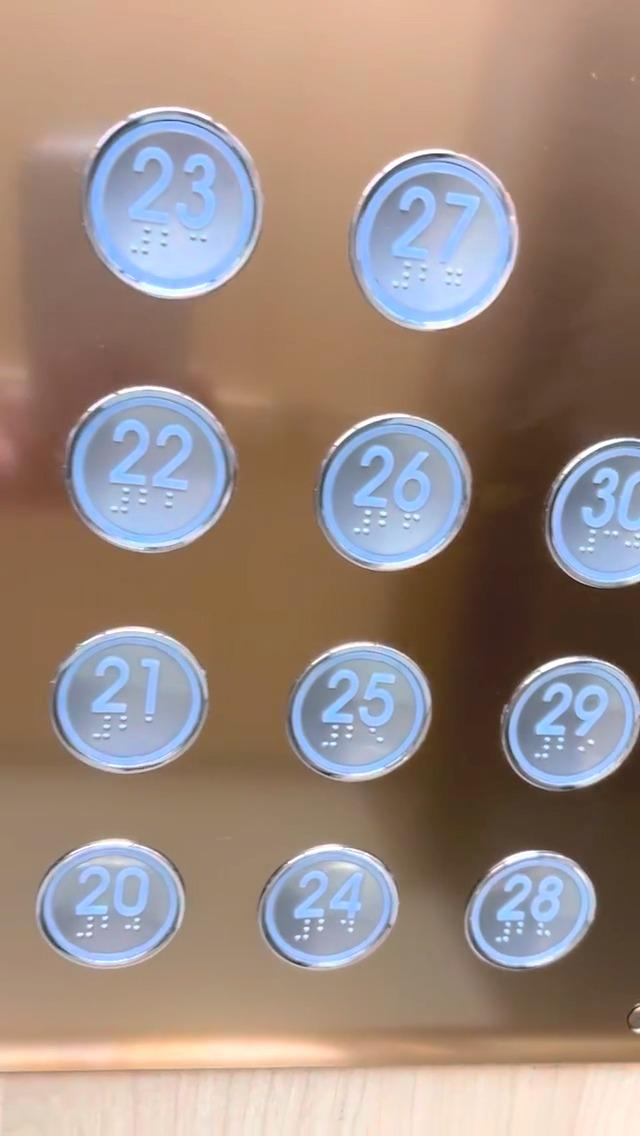button: (86, 107, 259, 299), (356, 134, 514, 343), (74, 391, 227, 563), (59, 619, 210, 790), (290, 643, 430, 806), (330, 416, 466, 576), (36, 836, 186, 977), (267, 846, 404, 976), (466, 846, 600, 976), (514, 667, 636, 797), (554, 446, 640, 589)
